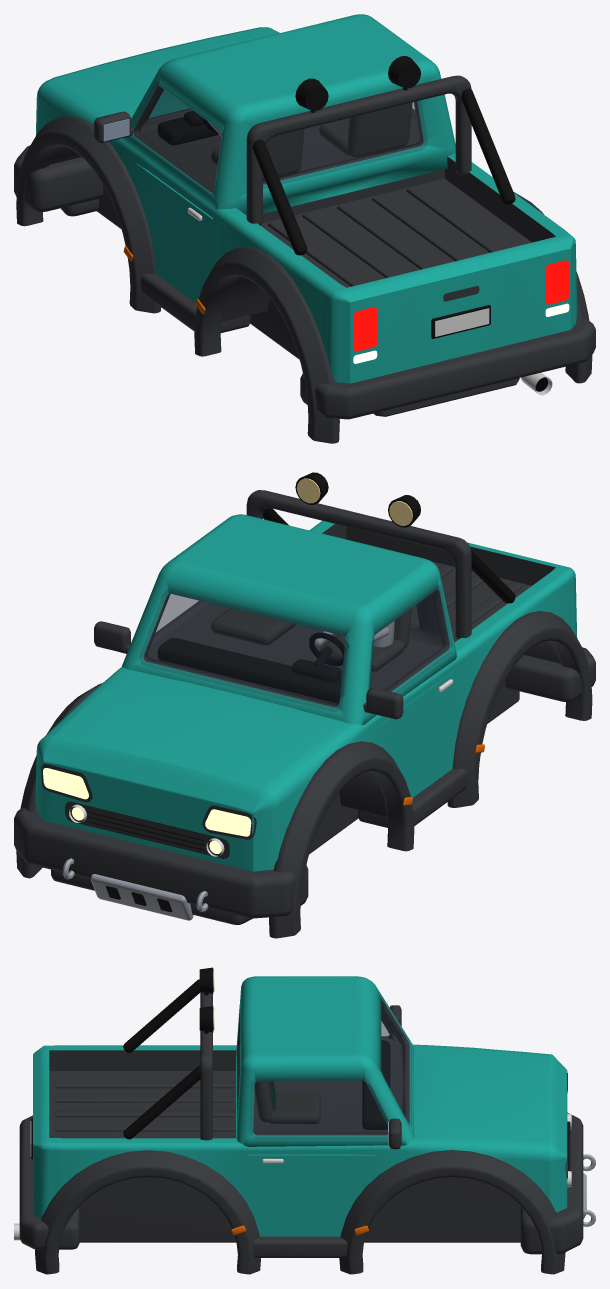
File: car_pickup.glb
3 views of the same model, one above another, from view 1: azimuth 30°, elevation 25°; view 2: azimuth 150°, elevation 25°; view 3: azimuth 270°, elevation 25° (orthographic). The views are drawn at different scales.
Parts seen in each view (by area): view 1: body_q, detail_q; view 2: body_q, detail_q; view 3: body_q, detail_q.
Part boxes in pixels (x1,y1,x2,y2): body_q: (14,14,595,443); detail_q: (103,56,552,395); body_q: (14,490,595,938); detail_q: (62,472,515,920); body_q: (19,976,583,1274); detail_q: (14,967,595,1240).
Size of the model in its own units: 2.38 by 2.01 by 4.6.
